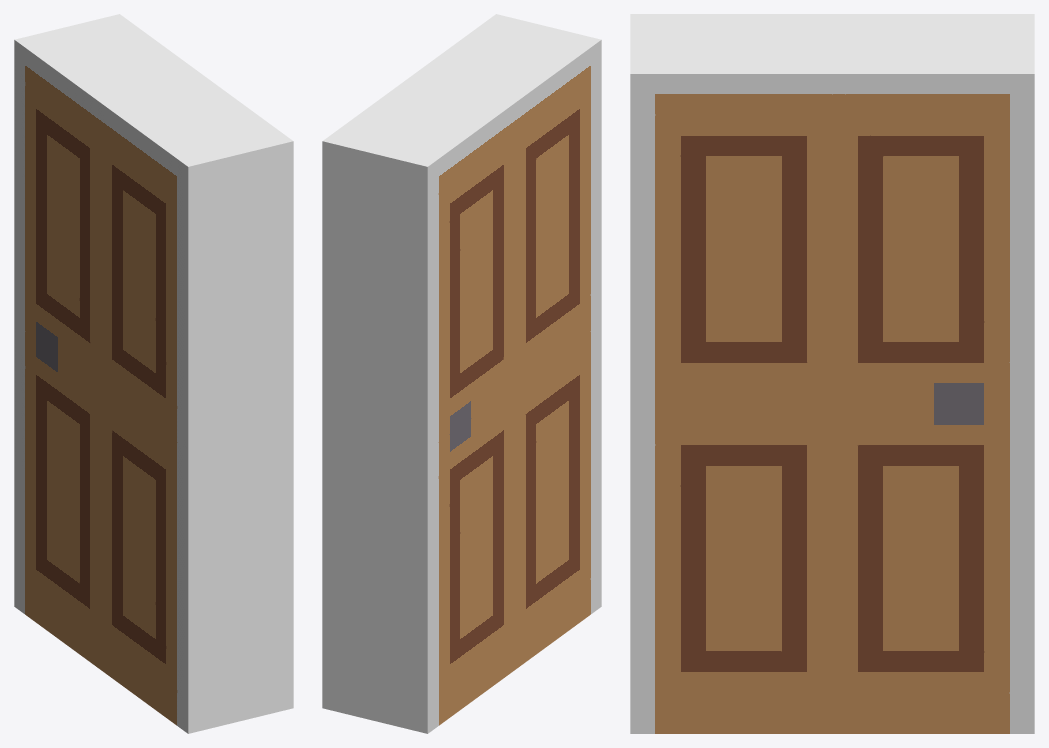
The model's file is Door.gltf.
3 renders of one model, left to right at view 1: azimuth 30°, elevation 25°; view 2: azimuth 150°, elevation 25°; view 3: azimuth 270°, elevation 25°, orthographic. The views are drawn at different scales.
Parts seen in each view (by area): view 1: Cube; view 2: Cube; view 3: Cube.
Boxes of the visible parts, x1,y1,x2,y2 form: Cube: [14, 14, 293, 733]; Cube: [322, 14, 601, 733]; Cube: [630, 14, 1034, 733].
Bounding box in the file's own units: 0.35 × 1.8 × 1.
Materials: 1 (1 with a texture image).
